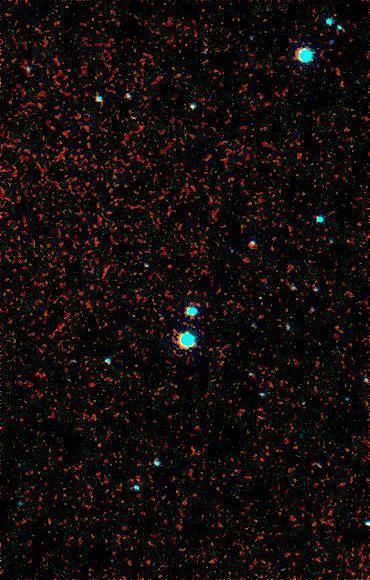star: (249, 285, 279, 315)
